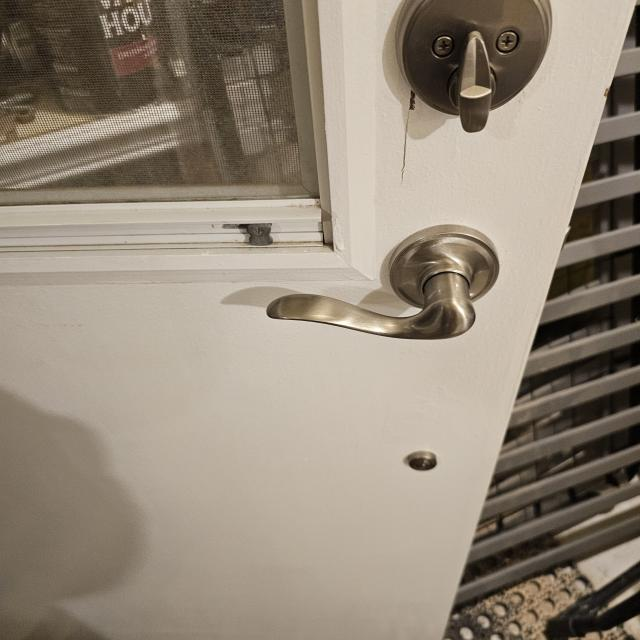door-handle: (266, 225, 499, 339)
